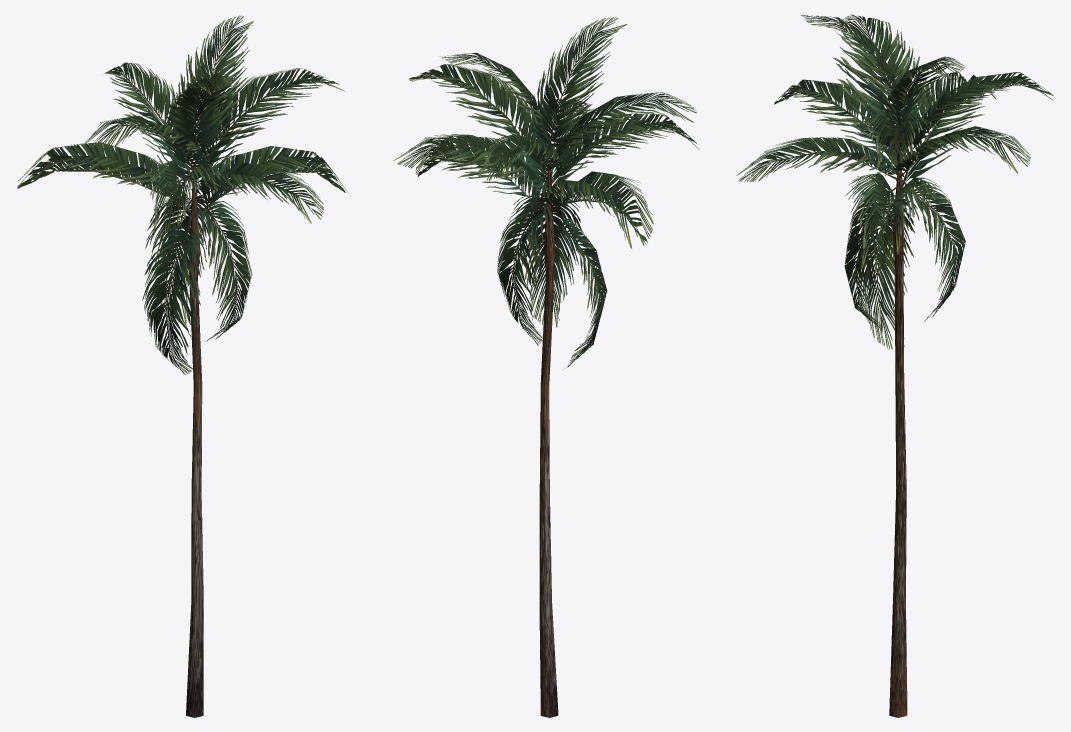
File: Palm 02.FBX
3 views of the same model, side by side, from view 1: azimuth 30°, elevation 25°; view 2: azimuth 150°, elevation 25°; view 3: azimuth 270°, elevation 25° (orthographic). The views are drawn at different scales.
Visible parts, largest first — view 1: Palm 02; view 2: Palm 02; view 3: Palm 02.
Part boxes in pixels (left/top/right/bottom): Palm 02: left=17, top=15, right=348, bottom=717; Palm 02: left=393, top=17, right=699, bottom=717; Palm 02: left=736, top=14, right=1053, bottom=717.
Size of the model in its own units: 44.05 by 94.86 by 40.4.
